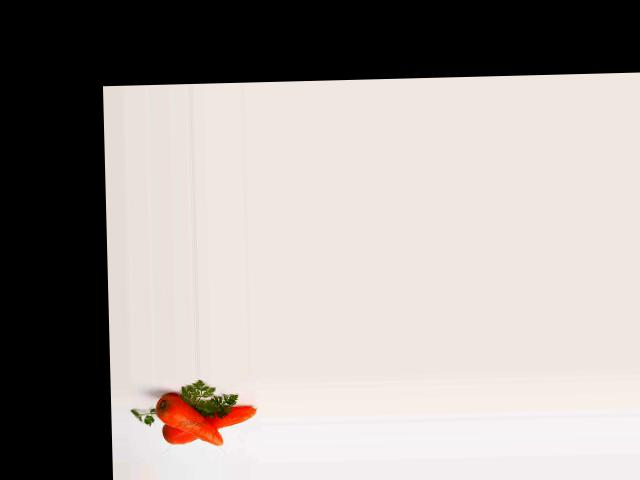carrot: (160, 405, 258, 445)
